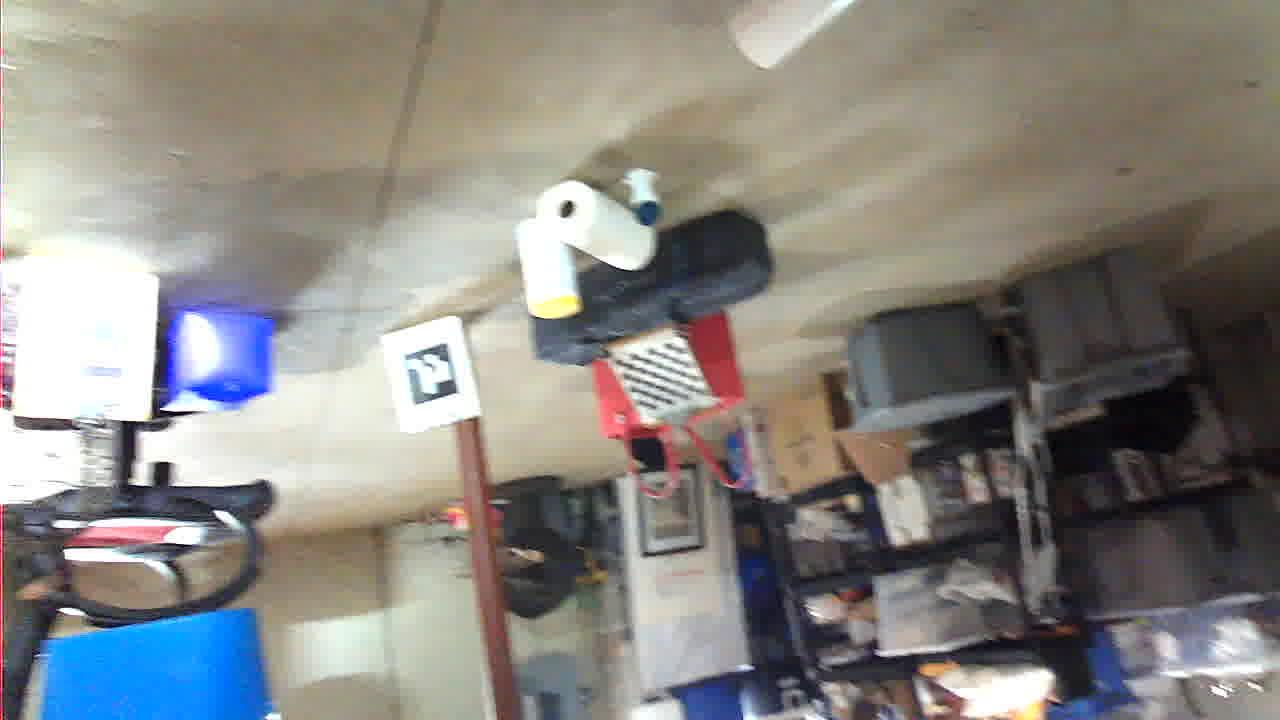coral: (421, 651, 553, 720)
